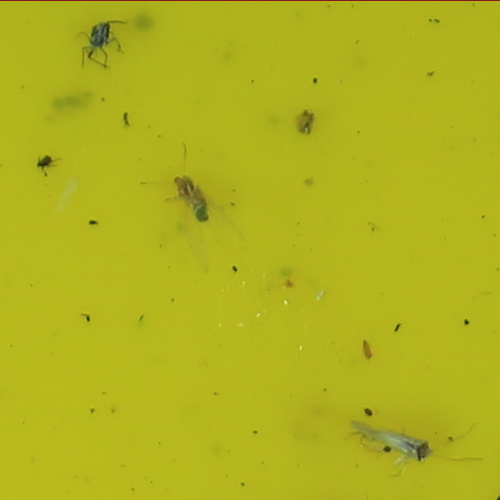psylla: (167, 169, 211, 225)
